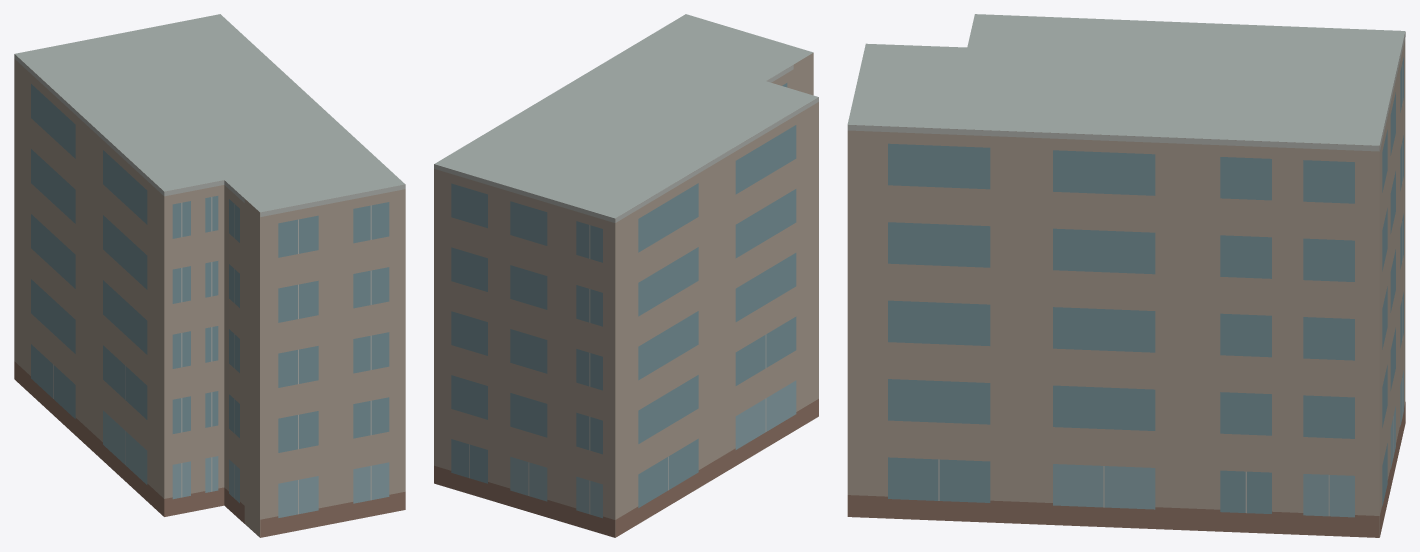
File: survey-upis-32638112.glb
The picture shows the model from 3 angles, left to right: view 1: azimuth 30°, elevation 25°; view 2: azimuth 150°, elevation 25°; view 3: azimuth 270°, elevation 25°; orthographic projection. The views are drawn at different scales.
Parts seen in each view (by area): view 1: survey-upis-32638112.tmp; view 2: survey-upis-32638112.tmp; view 3: survey-upis-32638112.tmp.
Boxes of the visible parts, left/top/right/bottom form: survey-upis-32638112.tmp: left=14, top=14, right=405, bottom=537; survey-upis-32638112.tmp: left=434, top=14, right=818, bottom=537; survey-upis-32638112.tmp: left=847, top=14, right=1405, bottom=537.
Size of the model in its own units: 12.04 by 16.7 by 21.55.
